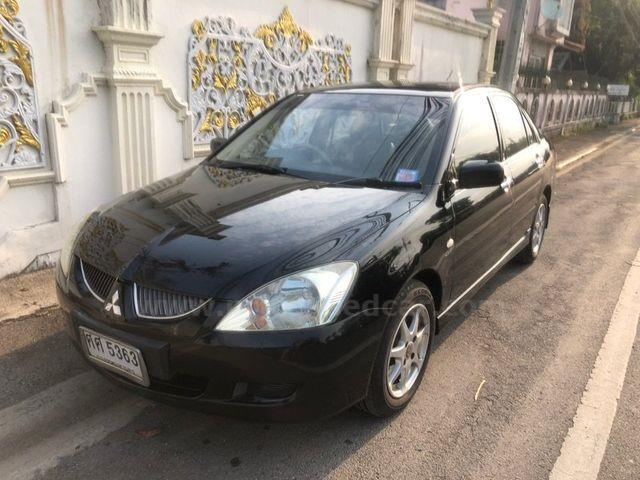sedan: (53, 78, 555, 425)
